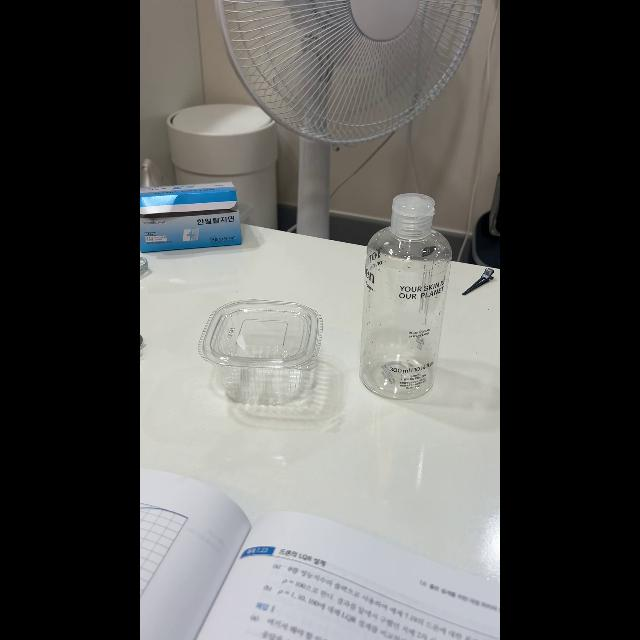clean: (357, 195, 451, 392), (207, 298, 321, 402)
